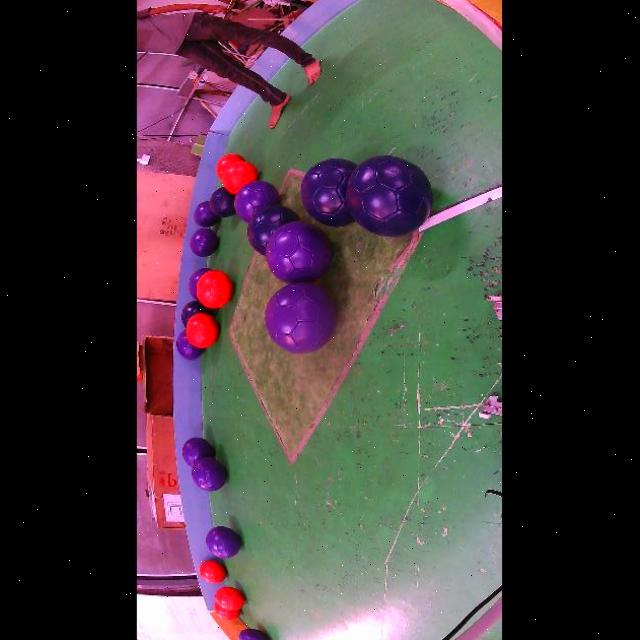B: (344, 155, 431, 236), (299, 158, 355, 228), (245, 205, 298, 255), (207, 187, 234, 217), (179, 300, 209, 327)
P: (263, 282, 334, 353), (264, 221, 331, 283), (233, 181, 278, 222), (189, 457, 225, 492), (203, 526, 239, 559), (181, 437, 212, 466), (174, 330, 203, 360), (188, 229, 216, 257), (187, 268, 209, 300), (192, 201, 217, 228), (236, 629, 267, 640)
R: (195, 271, 231, 309), (220, 160, 257, 195), (183, 313, 217, 348), (212, 587, 243, 611), (214, 154, 243, 179), (197, 560, 224, 583), (212, 602, 238, 620)
